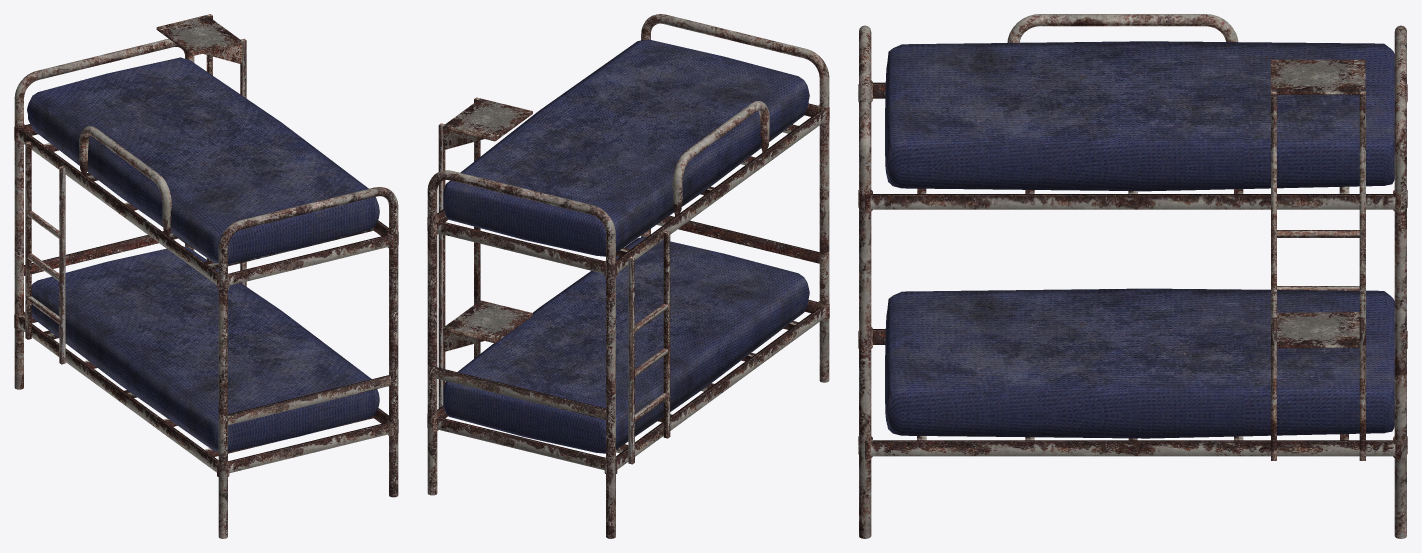
File: 222_bunkbed01a.fbx
The picture shows the model from 3 angles, left to right: view 1: azimuth 30°, elevation 25°; view 2: azimuth 150°, elevation 25°; view 3: azimuth 270°, elevation 25°; orthographic projection. The views are drawn at different scales.
Visible parts, largest first — view 1: LOD_1_Group_3_Sub_1__sm30_078_BunkBed01A_A_Mat, LOD_1_Group_4_Sub_1__sm30_078_BunkBed01A_A_Mat, LOD_1_Group_2_Sub_1__sm30_078_BunkBed01A_A_Mat, LOD_1_Group_15_Sub_1__sm30_078_BunkBed01A_A_Mat, LOD_1_Group_16_Sub_1__sm30_078_BunkBed01A_A_Mat, LOD_1_Group_14_Sub_1__sm30_078_BunkBed01A_A_Mat, LOD_1_Group_0_Sub_1__sm30_078_BunkBed01A_A_Mat, LOD_1_Group_7_Sub_1__sm30_078_BunkBed01A_A_Mat, LOD_1_Group_5_Sub_1__sm30_078_BunkBed01A_A_Mat, LOD_1_Group_6_Sub_1__sm30_078_BunkBed01A_A_Mat, LOD_1_Group_13_Sub_1__sm30_078_BunkBed01A_A_Mat, LOD_1_Group_1_Sub_1__sm30_078_BunkBed01A_A_Mat; view 2: LOD_1_Group_3_Sub_1__sm30_078_BunkBed01A_A_Mat, LOD_1_Group_4_Sub_1__sm30_078_BunkBed01A_A_Mat, LOD_1_Group_14_Sub_1__sm30_078_BunkBed01A_A_Mat, LOD_1_Group_15_Sub_1__sm30_078_BunkBed01A_A_Mat, LOD_1_Group_16_Sub_1__sm30_078_BunkBed01A_A_Mat, LOD_1_Group_2_Sub_1__sm30_078_BunkBed01A_A_Mat, LOD_1_Group_0_Sub_1__sm30_078_BunkBed01A_A_Mat, LOD_1_Group_1_Sub_1__sm30_078_BunkBed01A_A_Mat, LOD_1_Group_8_Sub_1__sm30_078_BunkBed01A_A_Mat, LOD_1_Group_7_Sub_1__sm30_078_BunkBed01A_A_Mat, LOD_1_Group_13_Sub_1__sm30_078_BunkBed01A_A_Mat, LOD_1_Group_6_Sub_1__sm30_078_BunkBed01A_A_Mat (+3 smaller); view 3: LOD_1_Group_3_Sub_1__sm30_078_BunkBed01A_A_Mat, LOD_1_Group_4_Sub_1__sm30_078_BunkBed01A_A_Mat, LOD_1_Group_16_Sub_1__sm30_078_BunkBed01A_A_Mat, LOD_1_Group_15_Sub_1__sm30_078_BunkBed01A_A_Mat, LOD_1_Group_2_Sub_1__sm30_078_BunkBed01A_A_Mat, LOD_1_Group_14_Sub_1__sm30_078_BunkBed01A_A_Mat, LOD_1_Group_1_Sub_1__sm30_078_BunkBed01A_A_Mat, LOD_1_Group_7_Sub_1__sm30_078_BunkBed01A_A_Mat, LOD_1_Group_6_Sub_1__sm30_078_BunkBed01A_A_Mat, LOD_1_Group_8_Sub_1__sm30_078_BunkBed01A_A_Mat, LOD_1_Group_0_Sub_1__sm30_078_BunkBed01A_A_Mat.
Part boxes in pixels (bbox=[...]): LOD_1_Group_3_Sub_1__sm30_078_BunkBed01A_A_Mat: bbox=[27, 57, 379, 264]; LOD_1_Group_4_Sub_1__sm30_078_BunkBed01A_A_Mat: bbox=[31, 246, 379, 452]; LOD_1_Group_2_Sub_1__sm30_078_BunkBed01A_A_Mat: bbox=[217, 187, 398, 538]; LOD_1_Group_15_Sub_1__sm30_078_BunkBed01A_A_Mat: bbox=[18, 124, 388, 285]; LOD_1_Group_16_Sub_1__sm30_078_BunkBed01A_A_Mat: bbox=[18, 316, 388, 473]; LOD_1_Group_14_Sub_1__sm30_078_BunkBed01A_A_Mat: bbox=[14, 38, 194, 389]; LOD_1_Group_0_Sub_1__sm30_078_BunkBed01A_A_Mat: bbox=[25, 141, 65, 364]; LOD_1_Group_7_Sub_1__sm30_078_BunkBed01A_A_Mat: bbox=[156, 15, 242, 55]; LOD_1_Group_5_Sub_1__sm30_078_BunkBed01A_A_Mat: bbox=[228, 375, 390, 425]; LOD_1_Group_6_Sub_1__sm30_078_BunkBed01A_A_Mat: bbox=[79, 126, 171, 236]; LOD_1_Group_13_Sub_1__sm30_078_BunkBed01A_A_Mat: bbox=[24, 231, 177, 275]; LOD_1_Group_1_Sub_1__sm30_078_BunkBed01A_A_Mat: bbox=[206, 14, 246, 286]; LOD_1_Group_3_Sub_1__sm30_078_BunkBed01A_A_Mat: bbox=[443, 39, 809, 256]; LOD_1_Group_4_Sub_1__sm30_078_BunkBed01A_A_Mat: bbox=[443, 236, 809, 453]; LOD_1_Group_14_Sub_1__sm30_078_BunkBed01A_A_Mat: bbox=[427, 170, 617, 538]; LOD_1_Group_15_Sub_1__sm30_078_BunkBed01A_A_Mat: bbox=[437, 103, 825, 273]; LOD_1_Group_16_Sub_1__sm30_078_BunkBed01A_A_Mat: bbox=[437, 300, 825, 470]; LOD_1_Group_2_Sub_1__sm30_078_BunkBed01A_A_Mat: bbox=[641, 14, 829, 382]; LOD_1_Group_0_Sub_1__sm30_078_BunkBed01A_A_Mat: bbox=[628, 231, 670, 464]; LOD_1_Group_1_Sub_1__sm30_078_BunkBed01A_A_Mat: bbox=[438, 97, 480, 408]; LOD_1_Group_8_Sub_1__sm30_078_BunkBed01A_A_Mat: bbox=[443, 300, 532, 343]; LOD_1_Group_7_Sub_1__sm30_078_BunkBed01A_A_Mat: bbox=[443, 98, 532, 141]; LOD_1_Group_13_Sub_1__sm30_078_BunkBed01A_A_Mat: bbox=[435, 367, 605, 419]; LOD_1_Group_6_Sub_1__sm30_078_BunkBed01A_A_Mat: bbox=[672, 101, 769, 216]; LOD_1_Group_3_Sub_1__sm30_078_BunkBed01A_A_Mat: bbox=[885, 41, 1394, 191]; LOD_1_Group_4_Sub_1__sm30_078_BunkBed01A_A_Mat: bbox=[885, 288, 1394, 438]; LOD_1_Group_16_Sub_1__sm30_078_BunkBed01A_A_Mat: bbox=[870, 329, 1395, 456]; LOD_1_Group_15_Sub_1__sm30_078_BunkBed01A_A_Mat: bbox=[870, 82, 1395, 209]; LOD_1_Group_2_Sub_1__sm30_078_BunkBed01A_A_Mat: bbox=[858, 25, 872, 538]; LOD_1_Group_14_Sub_1__sm30_078_BunkBed01A_A_Mat: bbox=[1393, 25, 1407, 538]; LOD_1_Group_1_Sub_1__sm30_078_BunkBed01A_A_Mat: bbox=[1271, 91, 1365, 460]; LOD_1_Group_7_Sub_1__sm30_078_BunkBed01A_A_Mat: bbox=[1271, 59, 1365, 94]; LOD_1_Group_6_Sub_1__sm30_078_BunkBed01A_A_Mat: bbox=[1007, 14, 1238, 42]; LOD_1_Group_8_Sub_1__sm30_078_BunkBed01A_A_Mat: bbox=[1277, 312, 1359, 348]; LOD_1_Group_0_Sub_1__sm30_078_BunkBed01A_A_Mat: bbox=[1277, 230, 1359, 290].
Size of the model in its own units: 1.03 by 1.81 by 2.02.
